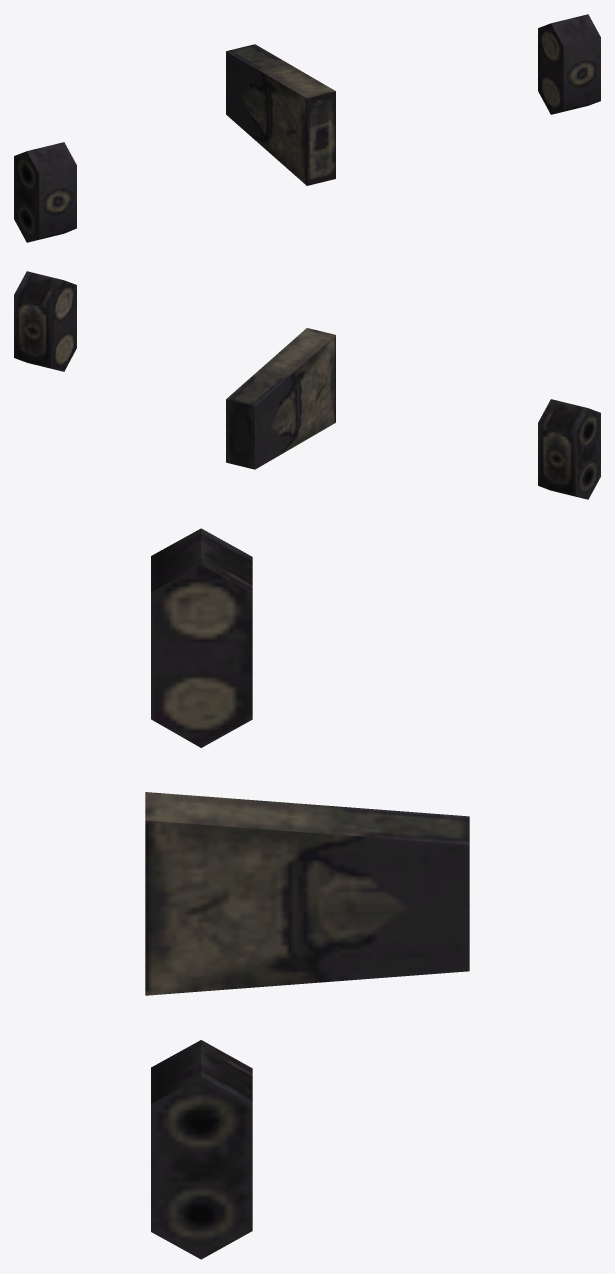
3 renders of one model, top to bottom at view 1: azimuth 30°, elevation 25°; view 2: azimuth 150°, elevation 25°; view 3: azimuth 270°, elevation 25°, orthographic. The views are drawn at different scales.
Visible parts, largest first — view 1: set_0_group_0; view 2: set_0_group_0; view 3: set_0_group_0.
Boxes of the visible parts, x1=… form: set_0_group_0: x1=14, y1=14, x2=600, y2=242; set_0_group_0: x1=14, y1=271, x2=600, y2=499; set_0_group_0: x1=145, y1=528, x2=469, y2=1259.
Size of the model in its own units: 0.7111 by 0.1109 by 0.1777.
1 material, 1 textured.
